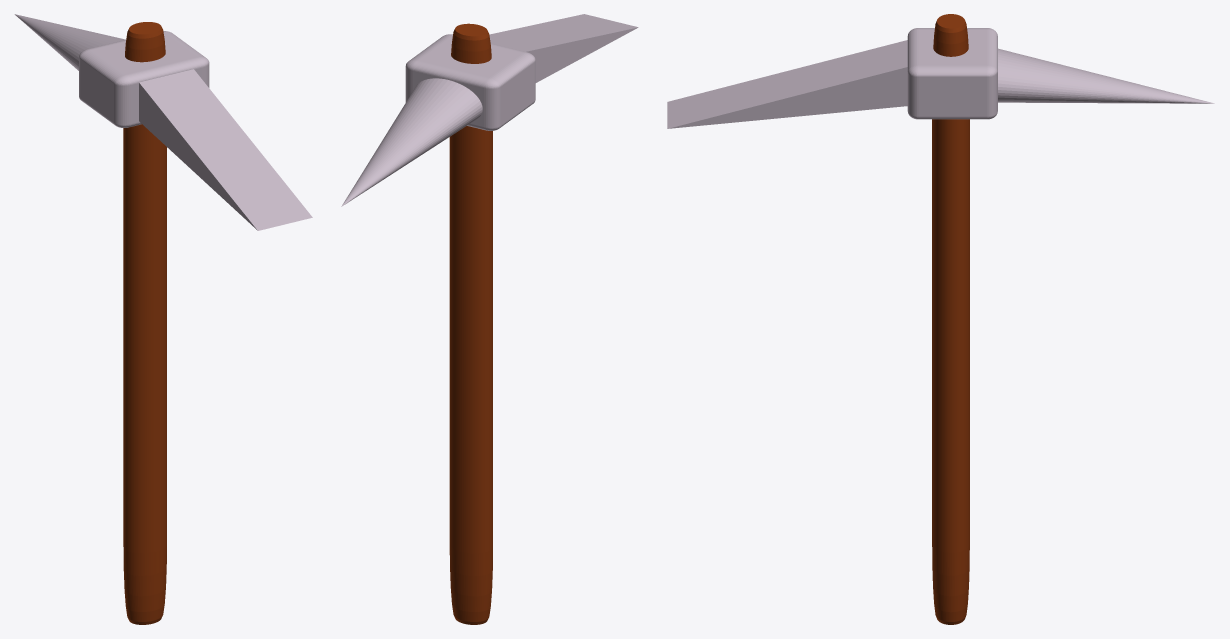
The model's file is pickaxe.glb.
3 views of the same model, side by side, from view 1: azimuth 30°, elevation 25°; view 2: azimuth 150°, elevation 25°; view 3: azimuth 270°, elevation 25° (orthographic).
Visible parts, largest first — view 1: obj_0; view 2: obj_0; view 3: obj_0.
Part boxes in pixels (x1,y1,x2,y2): obj_0: [14, 14, 312, 624]; obj_0: [341, 14, 638, 624]; obj_0: [667, 14, 1214, 624].
Size of the model in its own units: 0.2 by 1.2 by 1.
